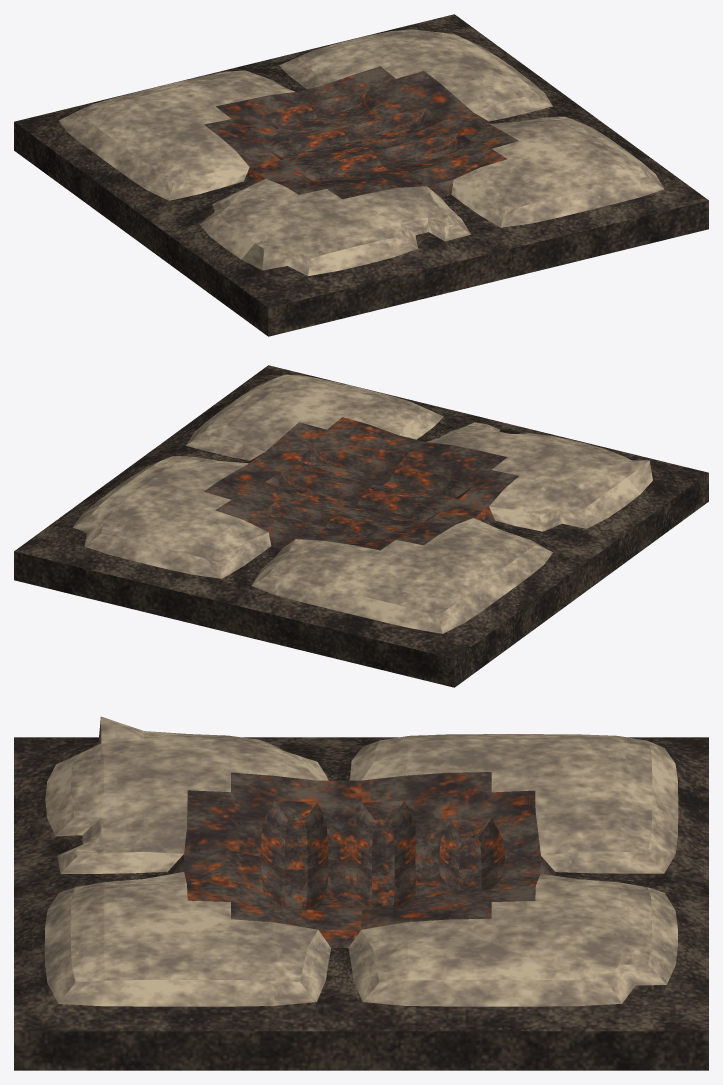
The model's file is floor_drain.glb.
The picture shows the model from 3 angles, top to bottom: view 1: azimuth 30°, elevation 25°; view 2: azimuth 150°, elevation 25°; view 3: azimuth 270°, elevation 25°; orthographic projection. The views are drawn at different scales.
Visible parts, largest first — view 1: crypt_floor_drain; view 2: crypt_floor_drain; view 3: crypt_floor_drain.
Boxes of the visible parts, x1,y1,x2,y2 form: crypt_floor_drain: (14,14,708,336); crypt_floor_drain: (14,365,708,687); crypt_floor_drain: (14,716,708,1070).
Size of the model in its own units: 1 by 0.125 by 1.
1 material, 1 textured.
